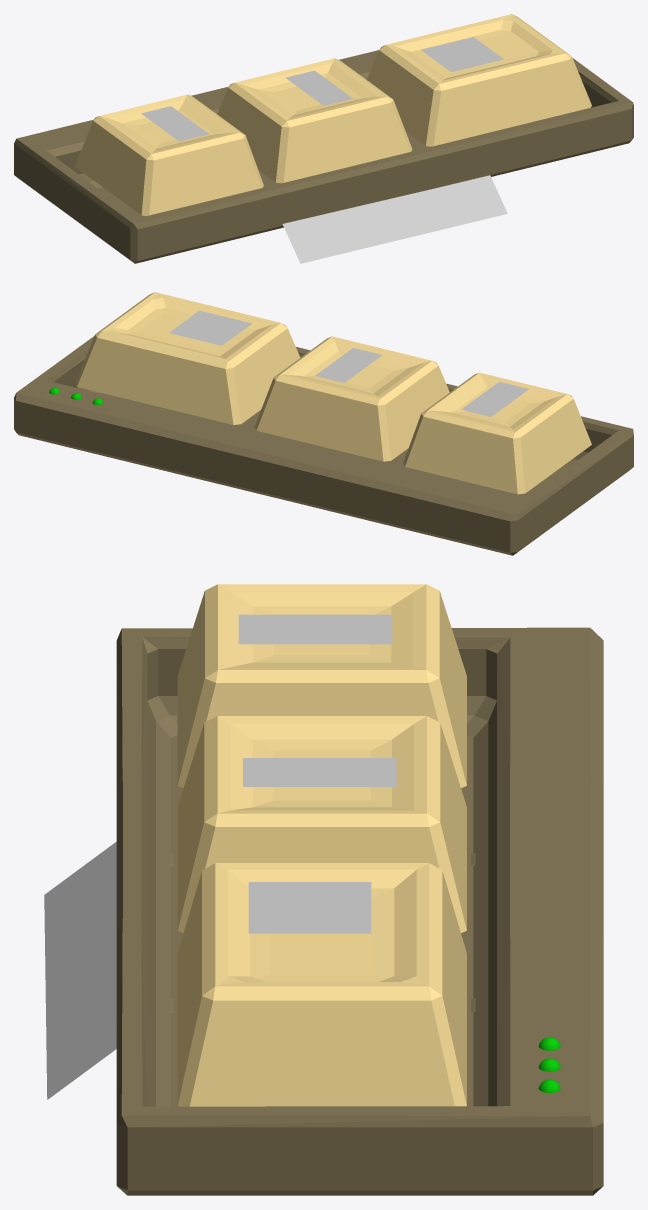
3 views of the same model, one above another, from view 1: azimuth 30°, elevation 25°; view 2: azimuth 150°, elevation 25°; view 3: azimuth 270°, elevation 25° (orthographic). The views are drawn at different scales.
Parts seen in each view (by area): view 1: Cube, _CompSci___, enter-12, 79px-Letter_c.svg, Letter_s.svg; view 2: Cube, enter-12, 79px-Letter_c.svg, Letter_s.svg; view 3: Cube, _CompSci___, enter-12, 79px-Letter_c.svg, Letter_s.svg.
Boxes of the visible parts, x1,y1,x2,y2 form: Cube: [14, 14, 633, 263]; _CompSci___: [282, 175, 507, 263]; enter-12: [421, 37, 503, 72]; 79px-Letter_c.svg: [141, 106, 208, 141]; Letter_s.svg: [285, 70, 352, 105]; Cube: [14, 292, 633, 555]; enter-12: [169, 310, 251, 345]; 79px-Letter_c.svg: [461, 381, 528, 416]; Letter_s.svg: [315, 348, 382, 382]; Cube: [116, 584, 603, 1195]; _CompSci___: [44, 841, 116, 1099]; enter-12: [248, 882, 371, 933]; 79px-Letter_c.svg: [238, 614, 392, 644]; Letter_s.svg: [243, 758, 396, 786].
Bounding box in the file's own units: 8.6 × 1.73 × 4.13.
